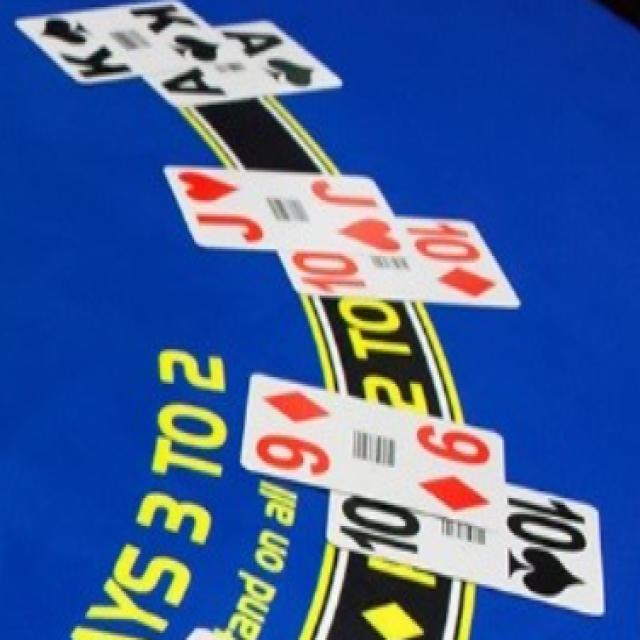Card-10: (329, 483, 602, 614), (278, 220, 519, 305)
Card-9: (241, 374, 503, 534)
Card-A: (143, 17, 343, 111)
Card-J: (165, 167, 410, 251)
Card-K: (16, 0, 241, 84)
